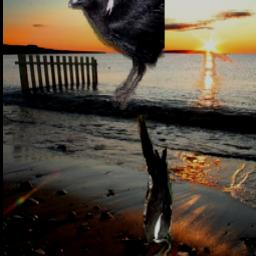Crow: (68, 0, 165, 110)
Woodpecker: (138, 115, 178, 256)
